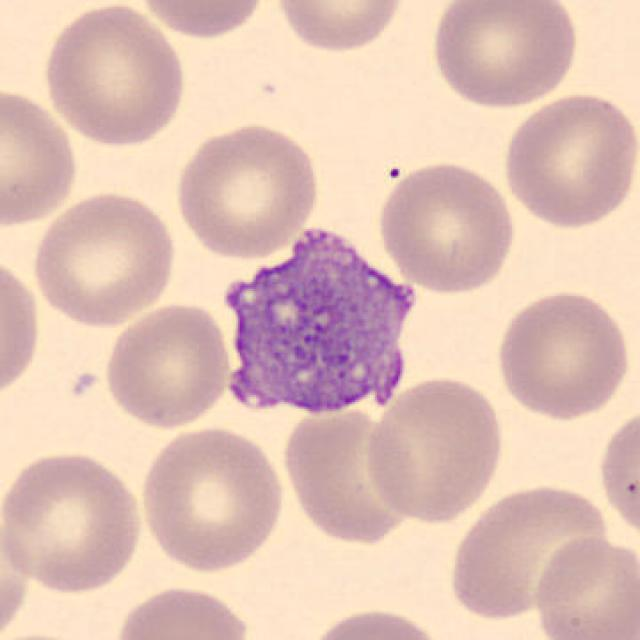Platelets: (207, 212, 433, 434)
RBC: (445, 478, 615, 622), (137, 423, 288, 575), (361, 372, 508, 525), (170, 116, 324, 261), (0, 446, 148, 596), (39, 2, 190, 148), (29, 187, 180, 330), (279, 400, 423, 547), (375, 157, 519, 296), (500, 88, 638, 231), (491, 286, 633, 422), (100, 298, 234, 432), (427, 0, 581, 111), (528, 532, 638, 640), (0, 85, 82, 229), (108, 582, 254, 640), (270, 0, 409, 55), (0, 248, 44, 405), (594, 401, 638, 548), (133, 0, 270, 42), (300, 603, 452, 640), (0, 516, 34, 640)
